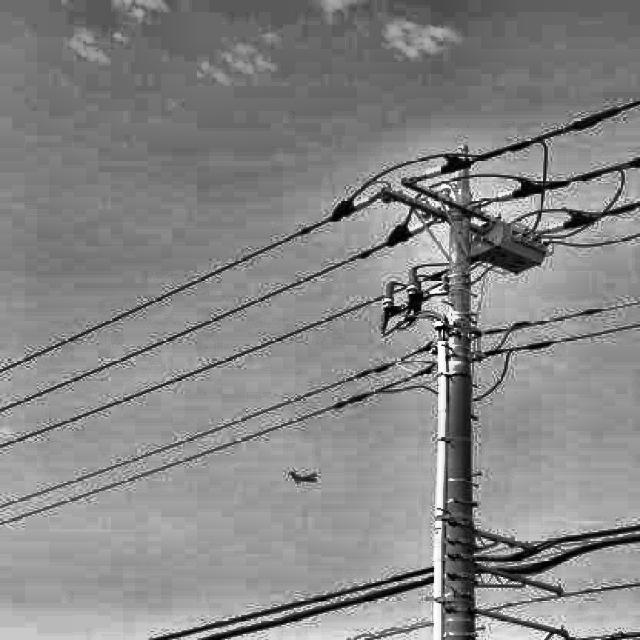US2: (287, 471, 318, 483)
